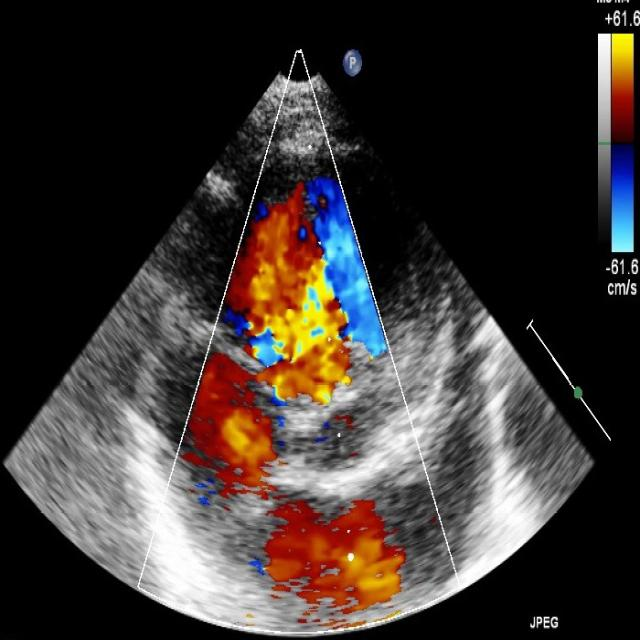ASDType2: (185, 348, 317, 560)
VSDType2: (230, 188, 372, 412)
